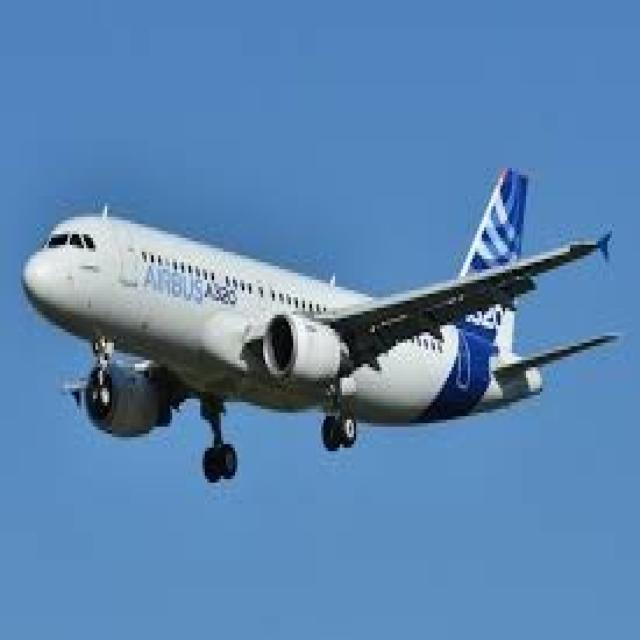aircraft: (14, 105, 629, 570)
